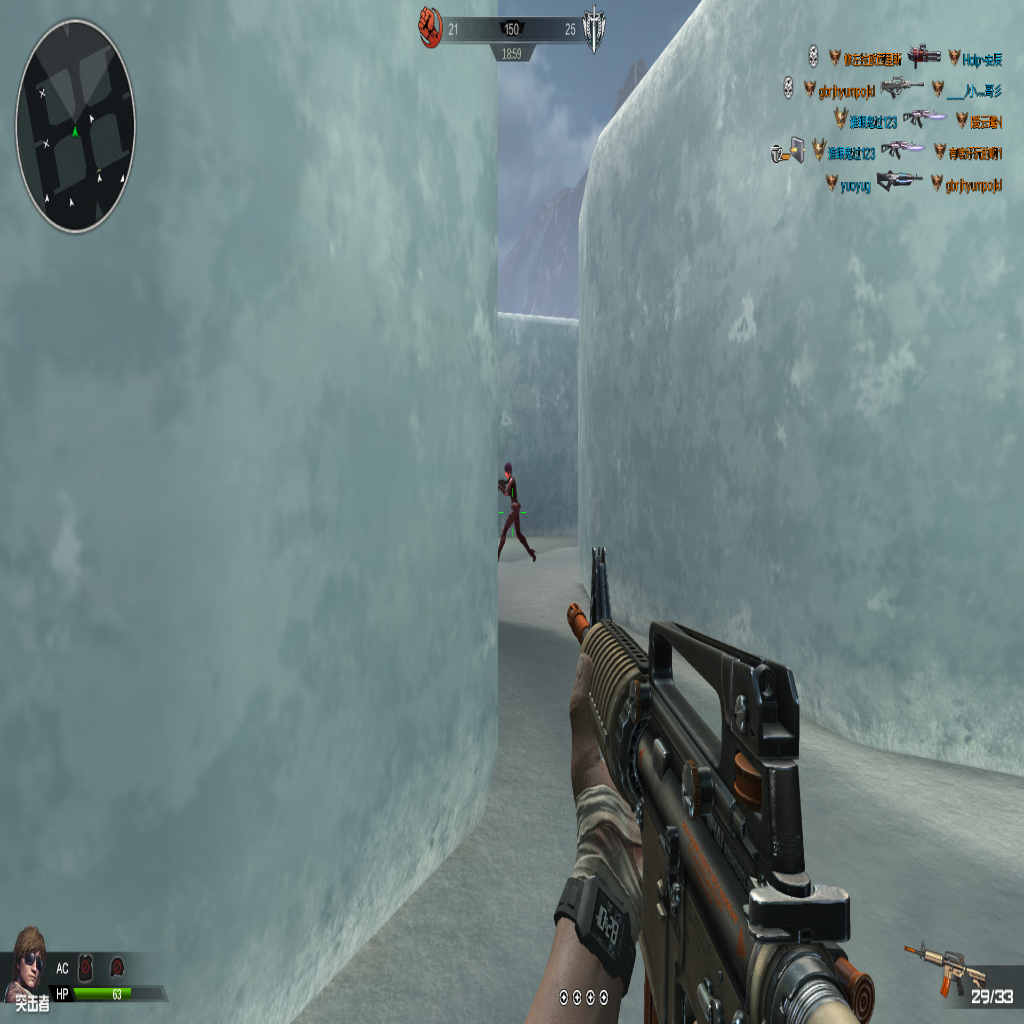ct: (492, 462, 538, 568)
